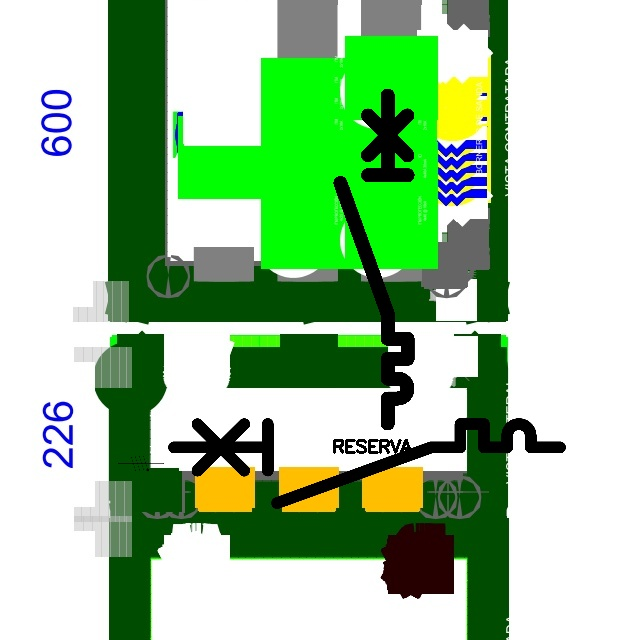interruptor_termomagnetico: (164, 414, 570, 513), (332, 87, 416, 432)
